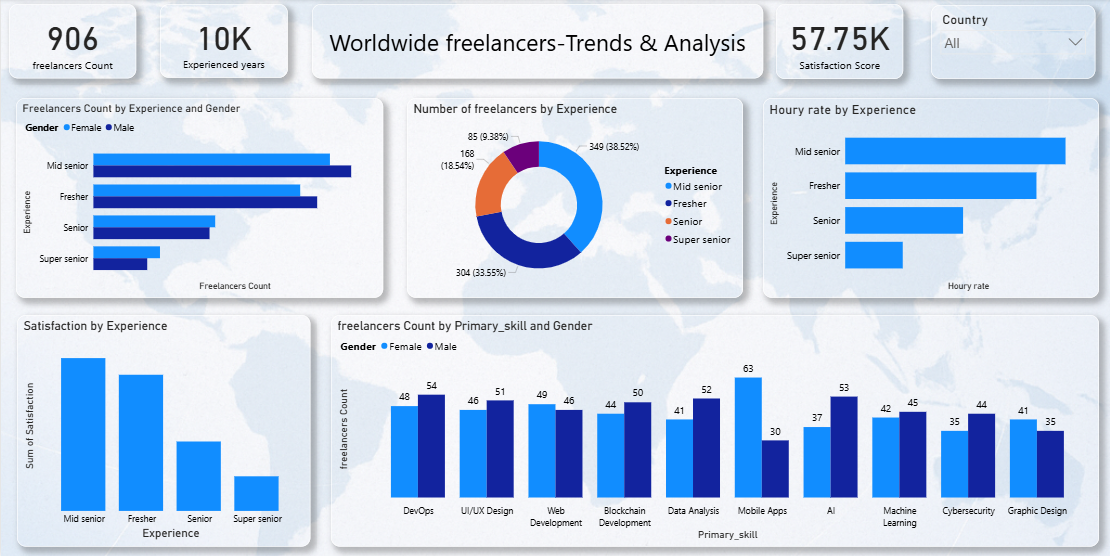

What the dashboard file says about the page in this screenshot:
{"tool":"powerbi","page":{"name":"Page 1","canvas":[1850,930],"ordinal":0},"visuals":[{"type":"donutChart","title":"Number of freelancers by Experience","fields":{"Category":["Table 1 (global_freelancers_raw).Experience(years) (groups)"],"Y":["CountNonNull(Table 1 (global_freelancers_raw).freelancer_ID)"]},"box":[676.4,165.7,559.7,333.1],"z":0},{"type":"columnChart","title":"Satisfaction by Experience","fields":{"Category":["Table 1 (global_freelancers_raw).Experience(years) (groups)"],"Y":["Sum(Table 1 (global_freelancers_raw).Satisfaction)"]},"box":[27.1,525.9,488.7,385.5],"z":1000},{"type":"clusteredColumnChart","fields":{"Category":["Table 1 (global_freelancers_raw).Primary_skill"],"Series":["Table 1 (global_freelancers_raw). Gender"],"Y":["CountNonNull(Table 1 (global_freelancers_raw).freelancer_ID)"]},"box":[549.5,525.9,1280,385.5],"z":2000},{"type":"barChart","fields":{"Category":["Table 1 (global_freelancers_raw).Experience(years) (groups)"],"Y":["Sum(Table 1 (global_freelancers_raw).Houry rate)"]},"box":[1269.9,165.7,559.7,333.1],"z":3000},{"type":"clusteredBarChart","title":"Freelancers Count by Experience and Gender","fields":{"Category":["Table 1 (global_freelancers_raw).Experience(years) (groups)"],"Y":["CountNonNull(Table 1 (global_freelancers_raw).freelancer_ID)"],"Series":["Table 1 (global_freelancers_raw). Gender"]},"box":[25.4,165.7,612.1,333.1],"z":4000},{"type":"card","fields":{"Values":["CountNonNull(Table 1 (global_freelancers_raw).freelancer_ID)"]},"box":[26.7,8.9,159.9,122.6],"z":5000},{"type":"card","fields":{"Values":["Sum(Table 1 (global_freelancers_raw).Experience(years))"]},"box":[207.9,10.7,284.3,122.6],"z":6000},{"type":"slicer","fields":{"Values":["Table 1 (global_freelancers_raw).Country"]},"box":[1550,10,273.3,123.3],"z":7000},{"type":"card","fields":{"Values":["Sum(Table 1 (global_freelancers_raw).Satisfaction)"]},"box":[1292.3,8.3,212.3,124.9],"z":8000},{"type":"shape","box":[518.9,8.9,751.7,124.4],"z":9000}]}

Visuals, with their boxes in screenshot pixels (x1, y1, x2, y2), scaled from the page's 1850x930 canvas onto the 1110x556 screenshot:
"Number of freelancers by Experience" donutChart: [406,99,742,298]
"Satisfaction by Experience" columnChart: [16,314,309,545]
clusteredColumnChart - Table 1 (global_freelancers_raw).Primary_skill x Table 1 (global_freelancers_raw). Gender: [330,314,1098,545]
barChart - Table 1 (global_freelancers_raw).Experience(years) (groups) x Sum(Table 1 (global_freelancers_raw).Houry rate): [762,99,1098,298]
"Freelancers Count by Experience and Gender" clusteredBarChart: [15,99,382,298]
card - CountNonNull(Table 1 (global_freelancers_raw).freelancer_ID): [16,5,112,79]
card - Sum(Table 1 (global_freelancers_raw).Experience(years)): [125,6,295,80]
slicer - Table 1 (global_freelancers_raw).Country: [930,6,1094,80]
card - Sum(Table 1 (global_freelancers_raw).Satisfaction): [775,5,903,80]
shape: [311,5,762,80]
